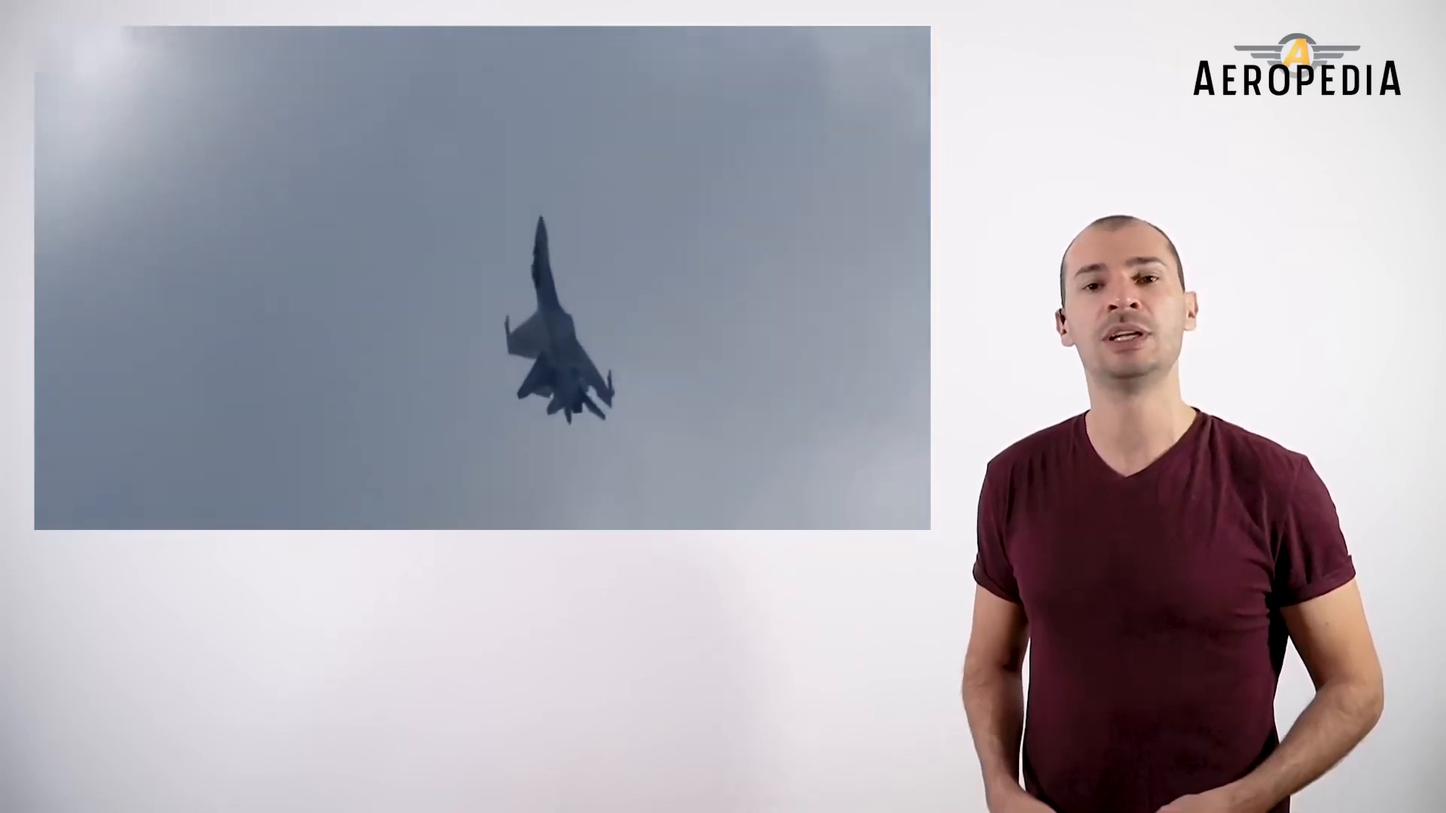Su35: (503, 212, 619, 425)
